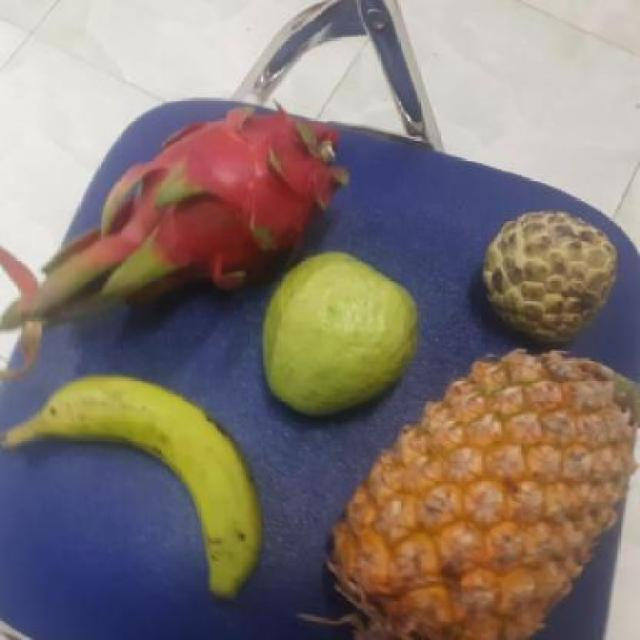banana: (7, 380, 264, 583)
dragon fruit: (119, 102, 336, 300)
guava: (255, 253, 420, 416)
sugar apple: (474, 213, 618, 345)
